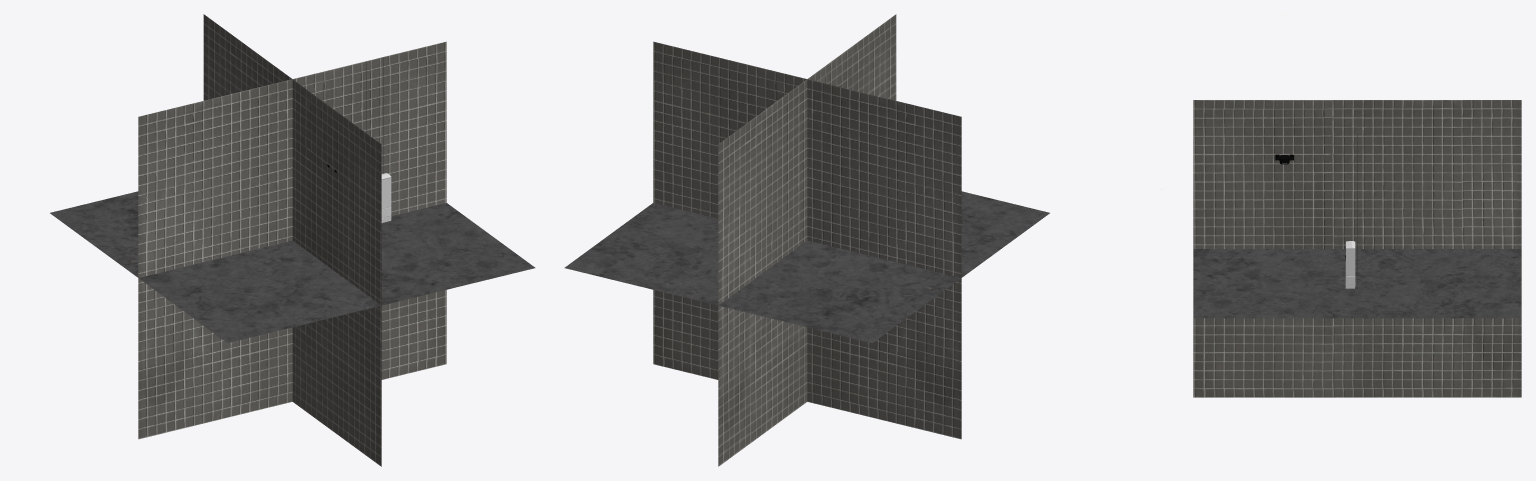
The model's file is scena1.fbx.
3 renders of one model, left to right at view 1: azimuth 30°, elevation 25°; view 2: azimuth 150°, elevation 25°; view 3: azimuth 270°, elevation 25°, orthographic. The views are drawn at different scales.
Parts seen in each view (by area): view 1: Plane.002, Plane.001, Plane, Cube; view 2: Plane.002, Plane.001, Plane; view 3: Plane.001, Plane, Cube.
Boxes of the visible parts, x1,y1,x2,y2 form: Plane.002: (138,41,446,439); Plane.001: (203,14,381,466); Plane: (50,191,535,343); Cube: (381,173,391,222); Plane.002: (653,41,961,439); Plane.001: (718,14,896,466); Plane: (564,191,1049,343); Plane.001: (1193,100,1521,397); Plane: (1193,249,1521,318); Cube: (1345,241,1355,288).
Size of the model in its own units: 15205 by 9955 by 9955.
Materials: 12 (2 with a texture image).
